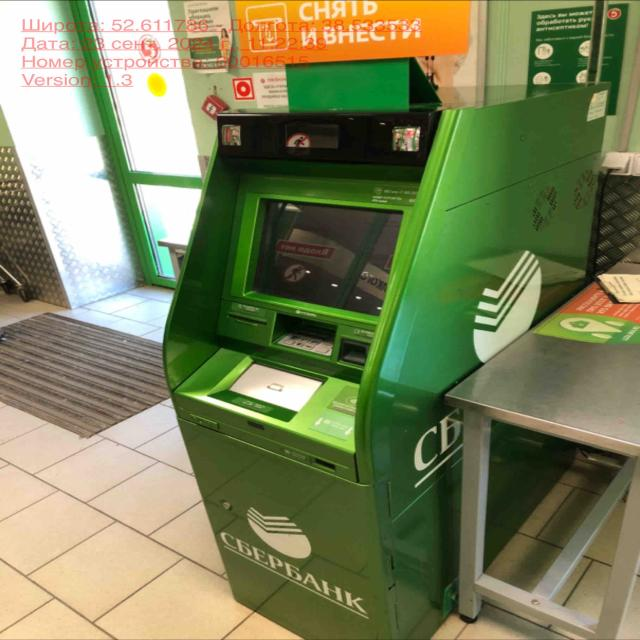bank: (166, 0, 604, 640)
